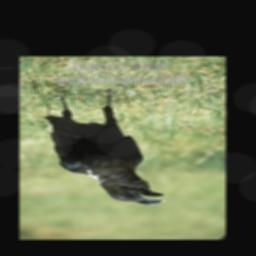Crow: (40, 85, 170, 208)
